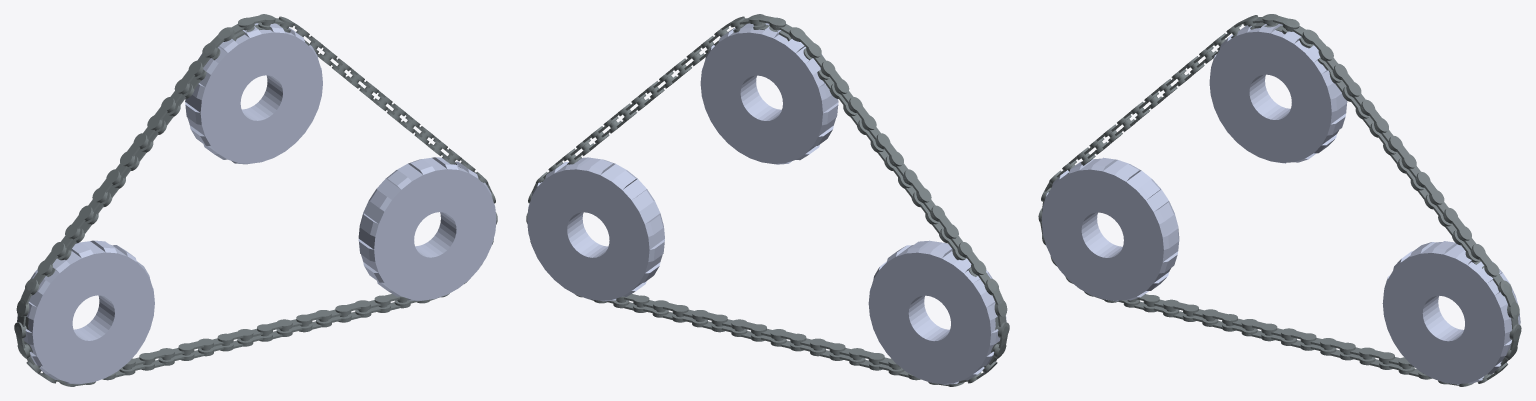
Rendered from chain_drive.glb.
3 renders of one model, left to right at view 1: azimuth 30°, elevation 25°; view 2: azimuth 150°, elevation 25°; view 3: azimuth 330°, elevation 25°, orthographic.
Parts seen in each view (by area): view 1: Cylinder.001, Cylinder.006, Cylinder.003, Cylinder.004; view 2: Cylinder.001, Cylinder.006, Cylinder.003, Cylinder.004; view 3: Cylinder.003, Cylinder.006, Cylinder.004, Cylinder.001.
Boxes of the visible parts, bbox=[...] form: Cylinder.001: bbox=[358, 157, 496, 300]; Cylinder.006: bbox=[14, 14, 497, 386]; Cylinder.003: bbox=[17, 240, 154, 384]; Cylinder.004: bbox=[185, 23, 322, 164]; Cylinder.001: bbox=[527, 157, 664, 301]; Cylinder.006: bbox=[526, 14, 1009, 386]; Cylinder.003: bbox=[868, 240, 1006, 384]; Cylinder.004: bbox=[700, 23, 838, 164]; Cylinder.003: bbox=[1041, 157, 1179, 301]; Cylinder.006: bbox=[1038, 14, 1521, 386]; Cylinder.004: bbox=[1209, 23, 1347, 163]; Cylinder.001: bbox=[1382, 241, 1520, 384].
Bounding box in the file's own units: 7.77 × 5.03 × 0.4398.
